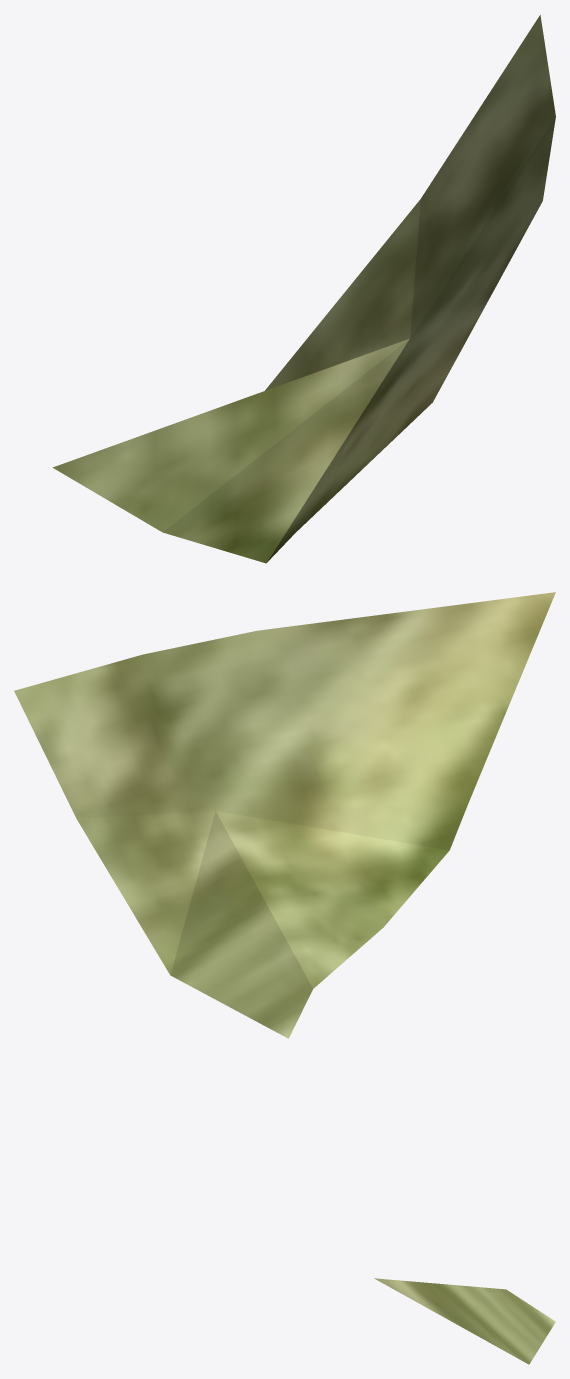
3 renders of one model, top to bottom at view 1: azimuth 30°, elevation 25°; view 2: azimuth 150°, elevation 25°; view 3: azimuth 270°, elevation 25°, orthographic. The views are drawn at different scales.
Bounding box in the file's own units: 0.8479 × 0.6663 × 1.29.
1 material, 1 textured.
